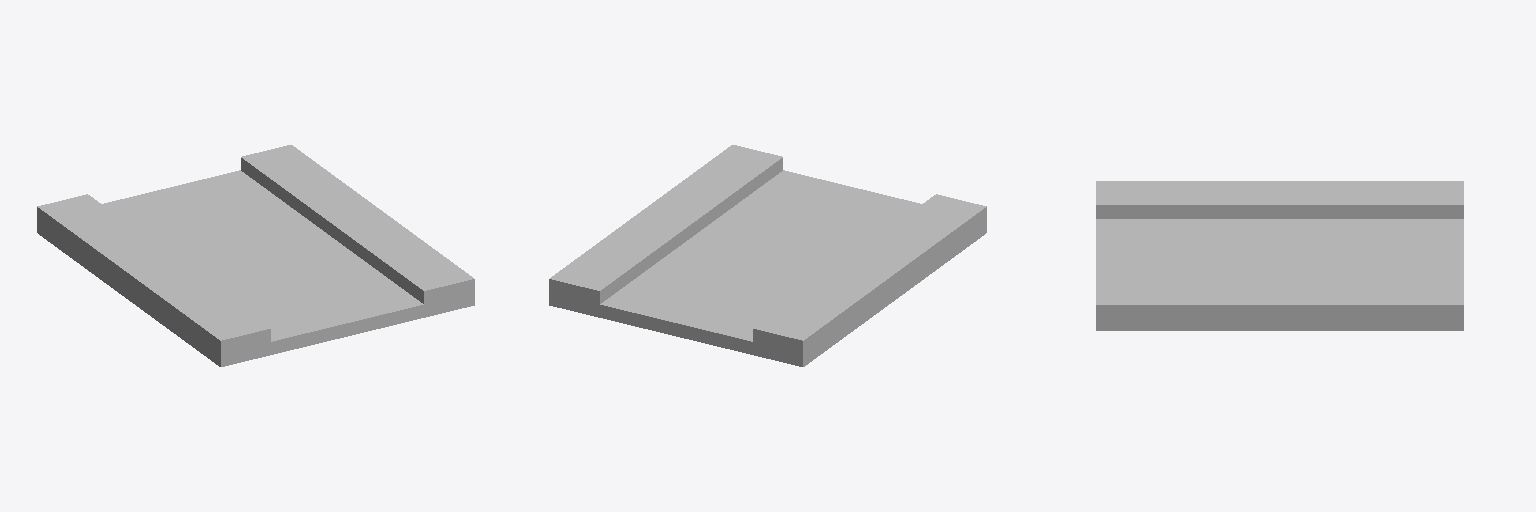
The model's file is road.obj.
3 renders of one model, left to right at view 1: azimuth 30°, elevation 25°; view 2: azimuth 150°, elevation 25°; view 3: azimuth 270°, elevation 25°, orthographic.
Bounding box in the file's own units: 20 × 2 × 25.